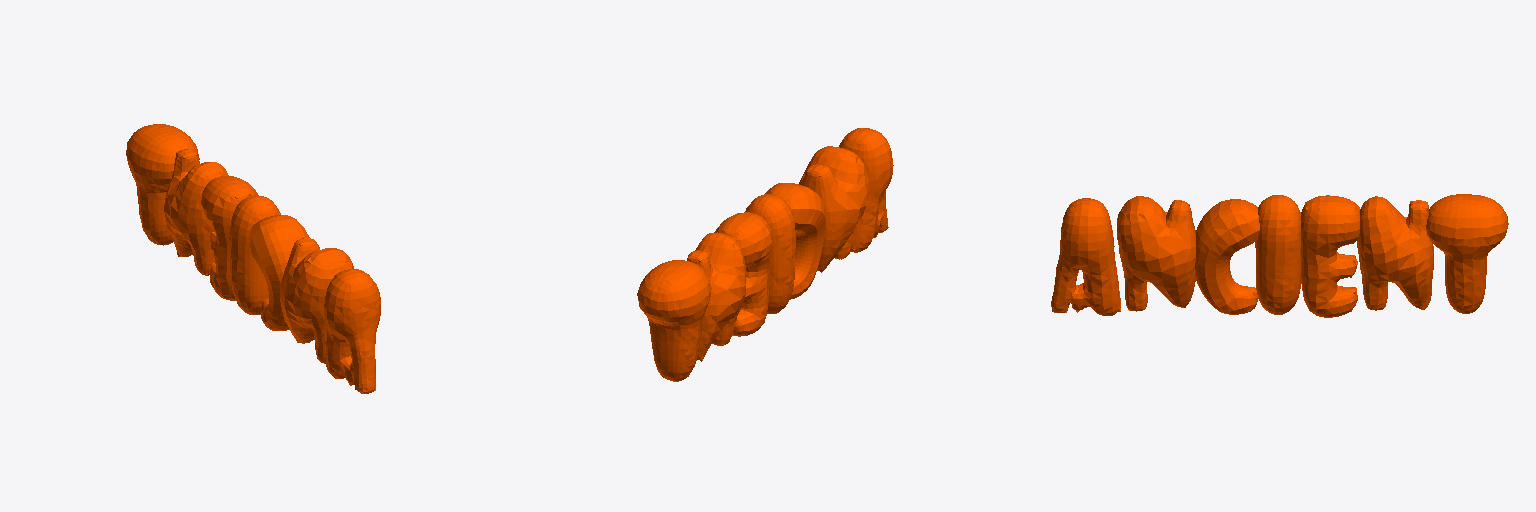
The model's file is 02_ancient.obj.
3 views of the same model, side by side, from view 1: azimuth 30°, elevation 25°; view 2: azimuth 150°, elevation 25°; view 3: azimuth 270°, elevation 25° (orthographic).
Visible parts, largest first — view 1: _ancient:ancient; view 2: _ancient:ancient; view 3: _ancient:ancient.
Boxes of the visible parts, <box> form: _ancient:ancient: <box>126,124,380,393</box>; _ancient:ancient: <box>637,128,893,381</box>; _ancient:ancient: <box>1051,194,1508,317</box>.
Bounding box in the file's own units: 0.1432 × 0.2551 × 0.8973.